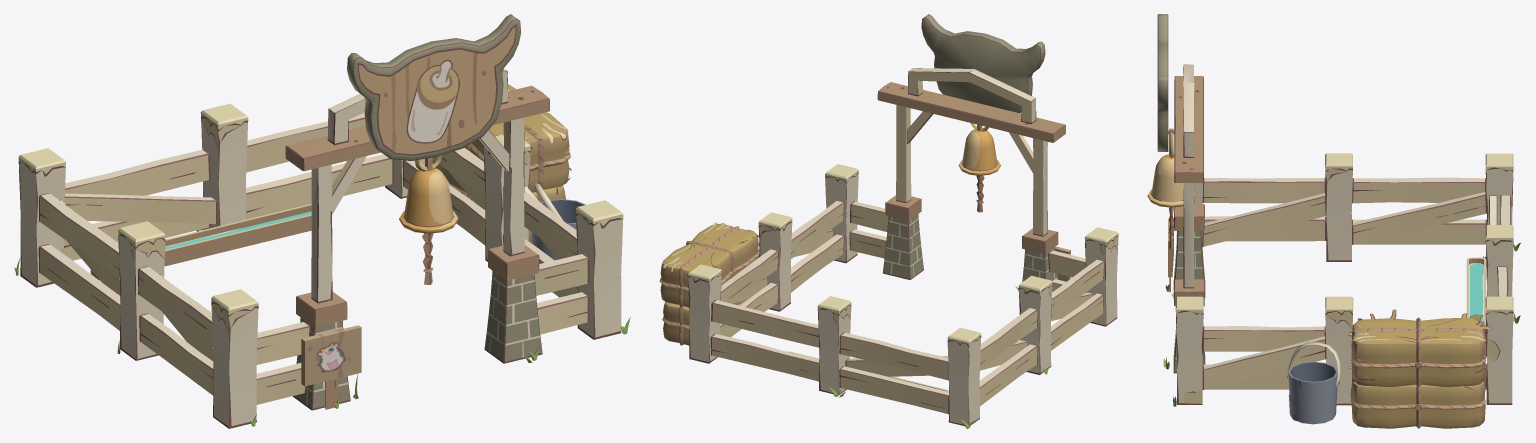
File: Mesh_Home_Ranch_Cow_SM.FBX
3 views of the same model, side by side, from view 1: azimuth 30°, elevation 25°; view 2: azimuth 150°, elevation 25°; view 3: azimuth 270°, elevation 25° (orthographic). The views are drawn at different scales.
Visible parts, largest first — view 1: Mesh_Home_Ranch_Cow; view 2: Mesh_Home_Ranch_Cow; view 3: Mesh_Home_Ranch_Cow.
Part boxes in pixels (x1,y1,x2,y2): Mesh_Home_Ranch_Cow: [14, 14, 630, 428]; Mesh_Home_Ranch_Cow: [659, 14, 1118, 428]; Mesh_Home_Ranch_Cow: [1147, 14, 1520, 428].
Bounding box in the file's own units: 266 × 194 × 230.
Materials: 1 (1 with a texture image).
